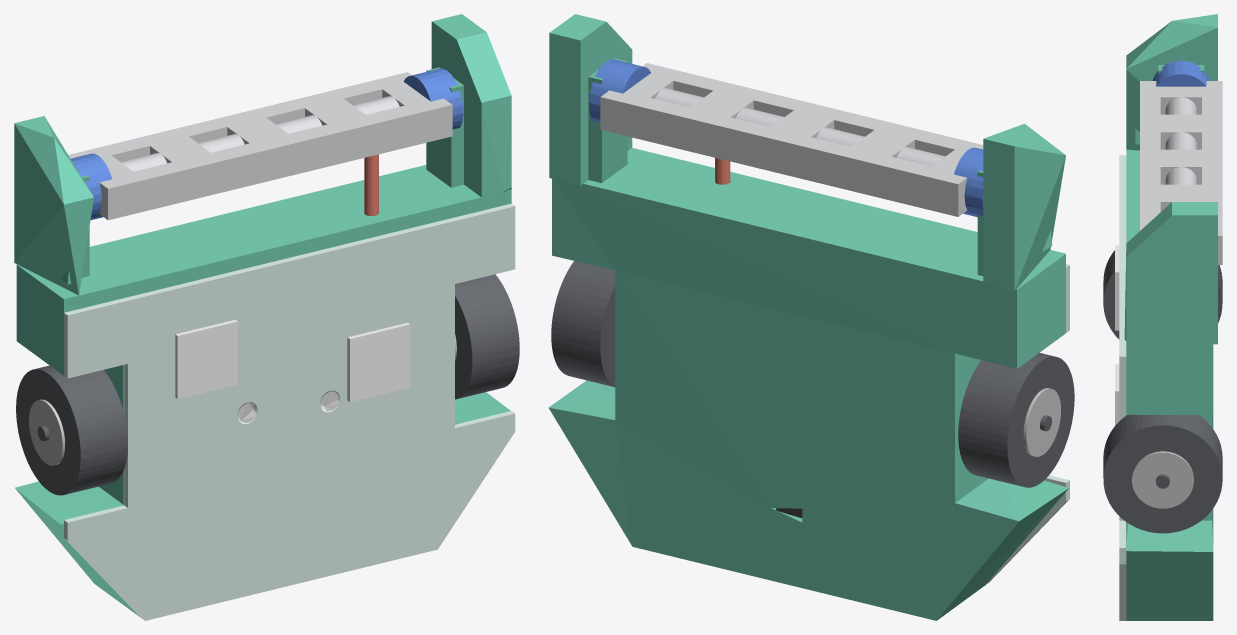
File: valkyrie.glb
3 views of the same model, side by side, from view 1: azimuth 30°, elevation 25°; view 2: azimuth 150°, elevation 25°; view 3: azimuth 270°, elevation 25° (orthographic). The views are drawn at different scales.
Parts seen in each view (by area): view 1: top_plate, chassis, weapon, cheek_r, wheel_r0, cheek_l, wheel_l0, window_l, window_r, dt_arm_weapon_1, dt_hub_wheel_r0, hub_l (+2 smaller); view 2: chassis, weapon, cheek_r, wheel_r0, cheek_l, wheel_l0, dt_arm_weapon_1, dt_hub_wheel_r0, hub_l, hub_r, top_plate; view 3: chassis, cheek_l, weapon, wheel_l0, cheek_r, top_plate, dt_hub_wheel_l0, hub_r, wheel_r0, window_r, window_l.
Boxes of the visible parts, box(x1,y1,x2,y2) form: top_plate: box(64, 203, 515, 620); chassis: box(15, 165, 511, 617); weapon: box(68, 72, 452, 220); cheek_r: box(14, 116, 93, 295); wheel_r0: box(16, 365, 127, 495); cheek_l: box(431, 14, 511, 197); wheel_l0: box(455, 274, 519, 399); window_l: box(347, 322, 410, 401); window_r: box(175, 319, 237, 398); dt_arm_weapon_1: box(426, 67, 463, 187); dt_hub_wheel_r0: box(29, 399, 65, 465); hub_l: box(404, 68, 463, 129); chassis: box(548, 148, 1068, 620); weapon: box(600, 63, 983, 216); cheek_r: box(983, 123, 1065, 291); wheel_r0: box(958, 352, 1074, 487); cheek_l: box(549, 14, 632, 185); wheel_l0: box(551, 261, 615, 387); dt_arm_weapon_1: box(588, 58, 627, 182); dt_hub_wheel_r0: box(1023, 388, 1060, 456); hub_l: box(589, 59, 650, 122); hub_r: box(954, 147, 983, 217); top_plate: box(986, 264, 1069, 584); chassis: box(1126, 149, 1213, 620); cheek_l: box(1124, 202, 1217, 344); weapon: box(1140, 81, 1222, 264); wheel_l0: box(1103, 415, 1222, 533); cheek_r: box(1126, 14, 1217, 150); top_plate: box(1119, 155, 1126, 620); dt_hub_wheel_l0: box(1132, 451, 1193, 508); hub_r: box(1152, 60, 1209, 86); wheel_r0: box(1103, 250, 1222, 339); window_r: box(1115, 245, 1119, 330); window_l: box(1115, 364, 1119, 425).
Size of the model in its own units: 106 by 106 by 26.
